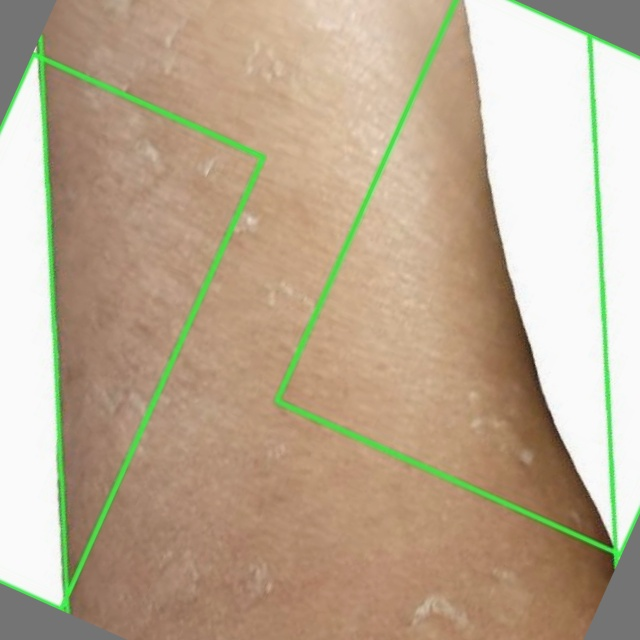Tinea Corporis: (119, 0, 533, 639), (276, 0, 639, 554), (0, 54, 263, 609)
